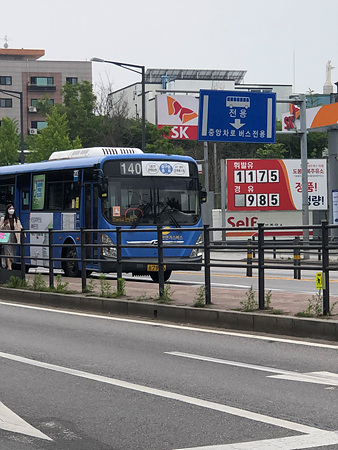bnum: (119, 160, 144, 176)
